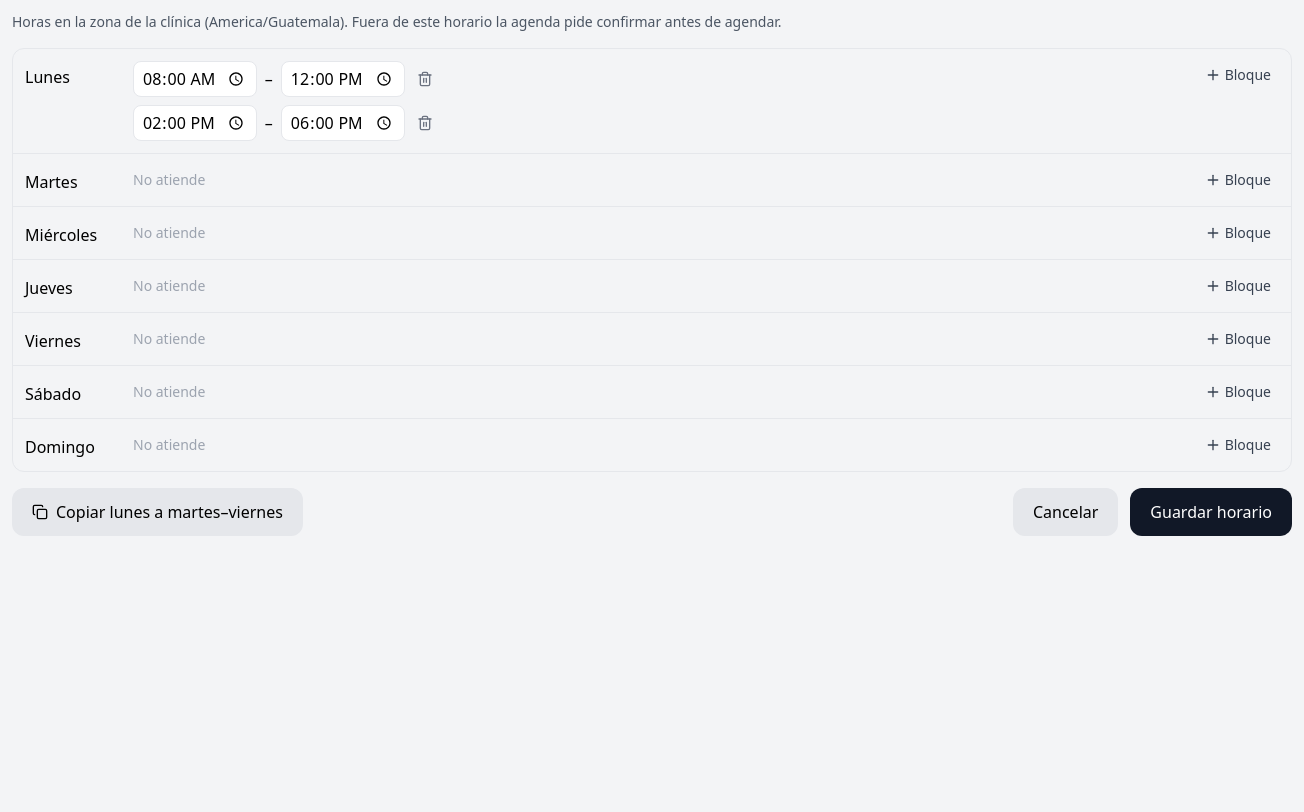
Scenario: DoctorScheduleEditor › muestra el error del backend
Click the button "Guardar horario": {"x": 1211, "y": 512} [1130,488,1292,536]
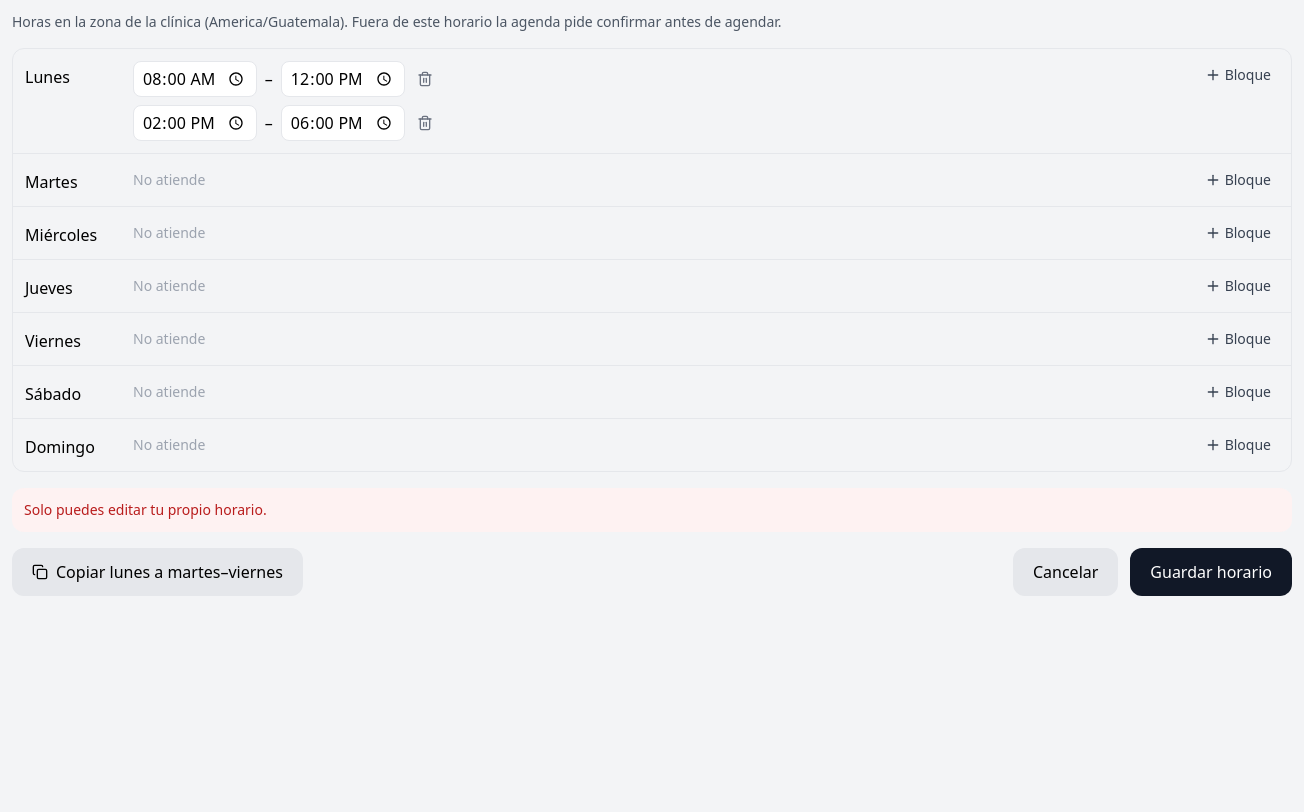
expect the message reads "Solo puedes editar tu propio horario.": met, box [24,500,267,519]
